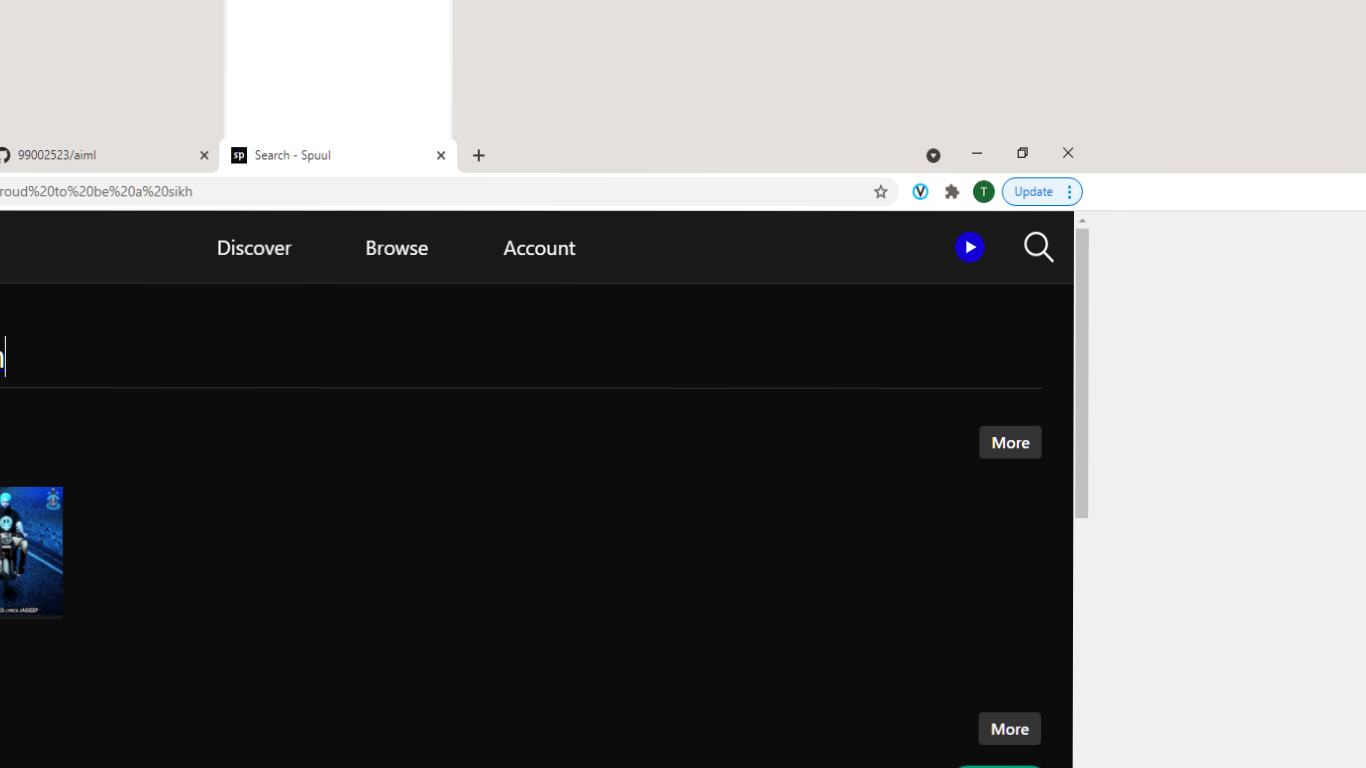myaccountbutton: (474, 216, 594, 292)
searchicon: (1014, 222, 1066, 278)
